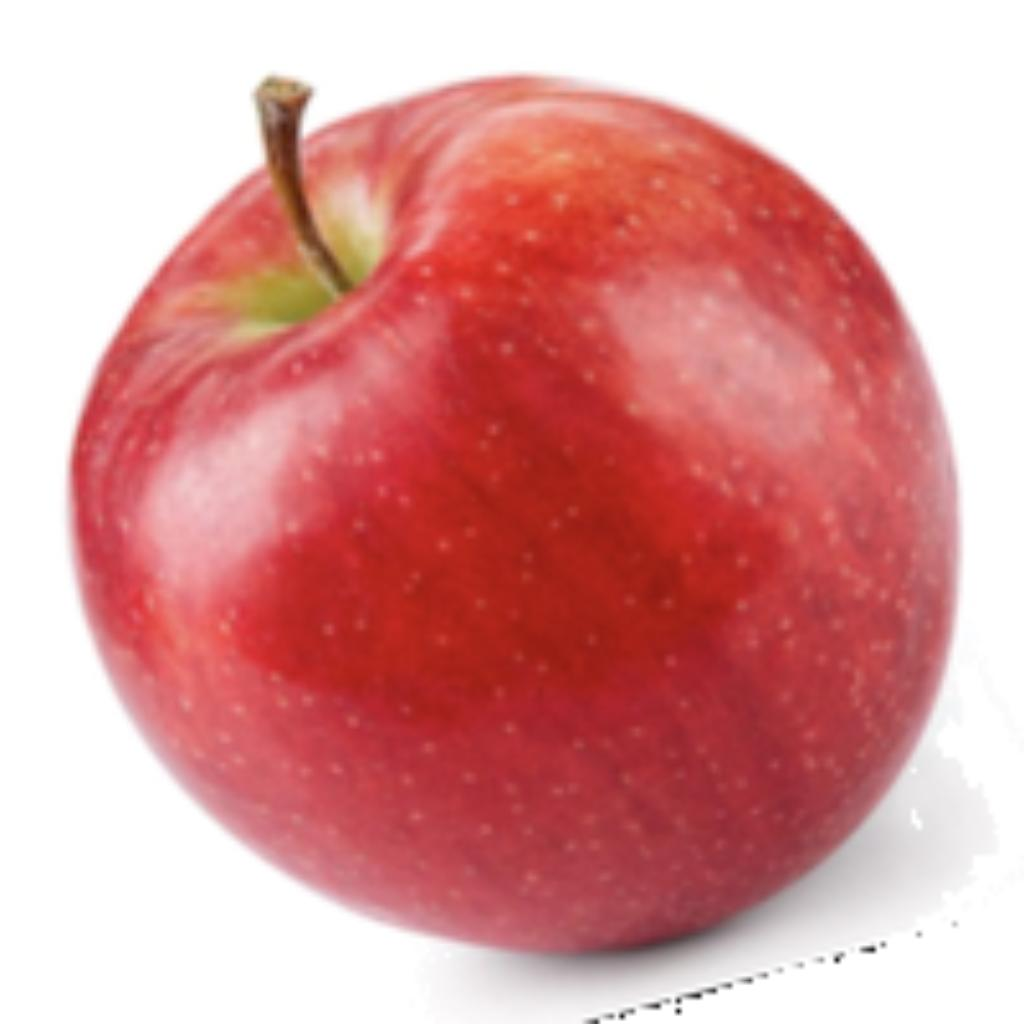apple: (56, 67, 998, 1019)
